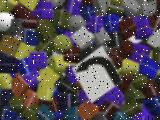Left: (72, 46, 122, 103)
